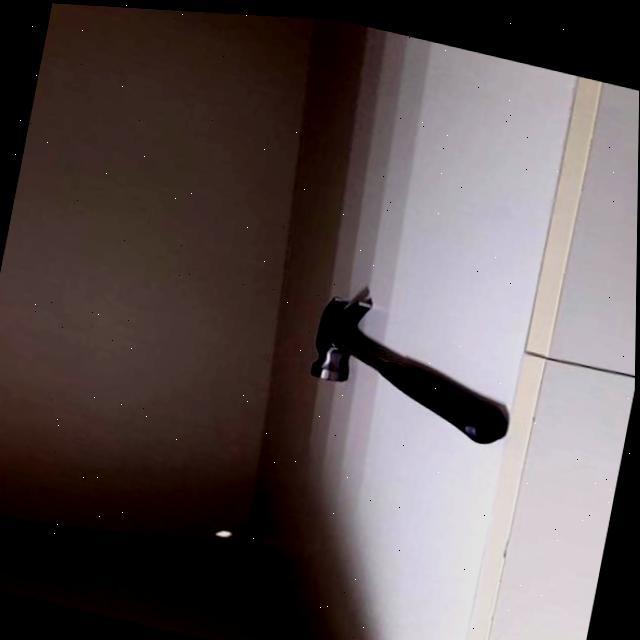hammer: (299, 278, 533, 444)
